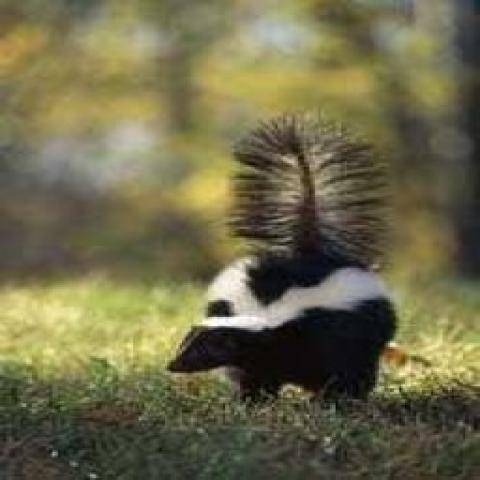small_animal: (163, 105, 422, 407)
